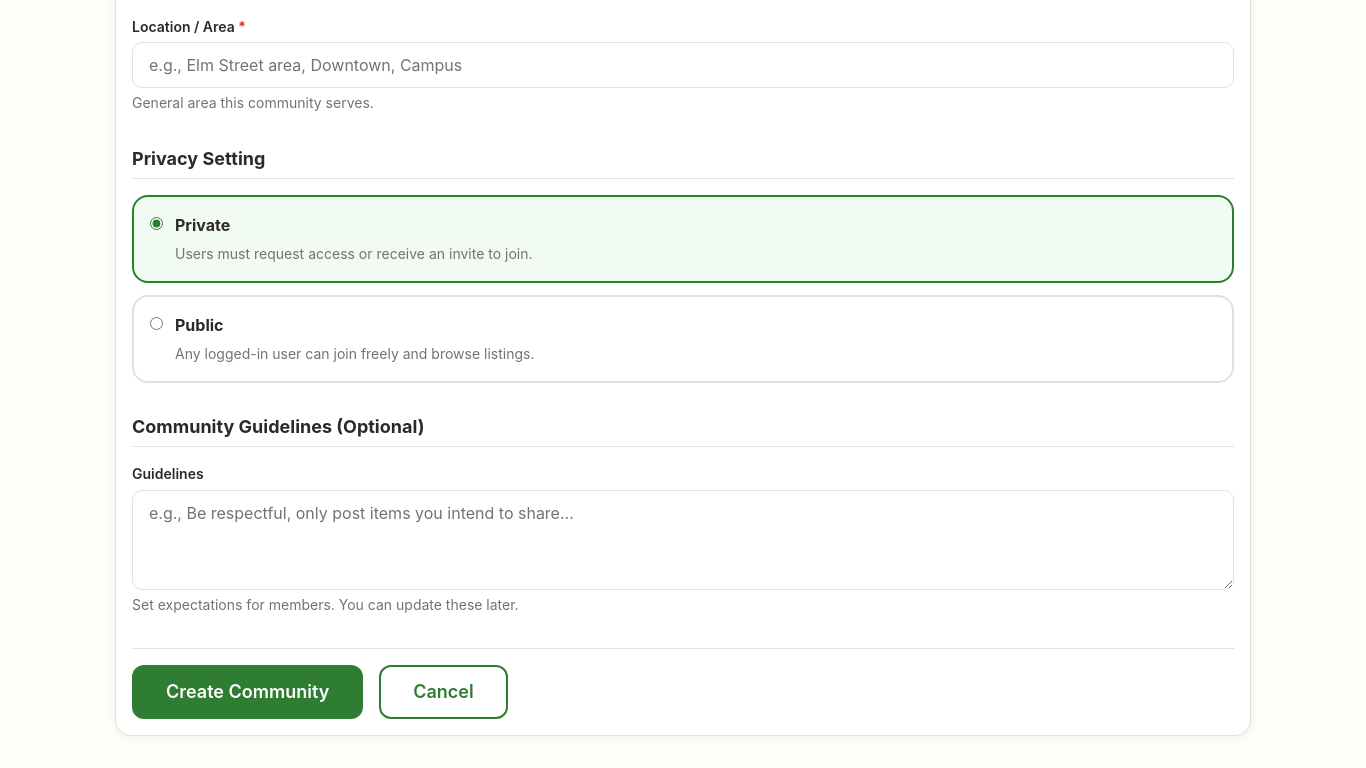
Test: CreateCommunity › must show validation errors when submitting empty form
(page scrolled)
Click the button "Create Community".
click(248, 692)  # box [132,665,363,719]
(page scrolled)
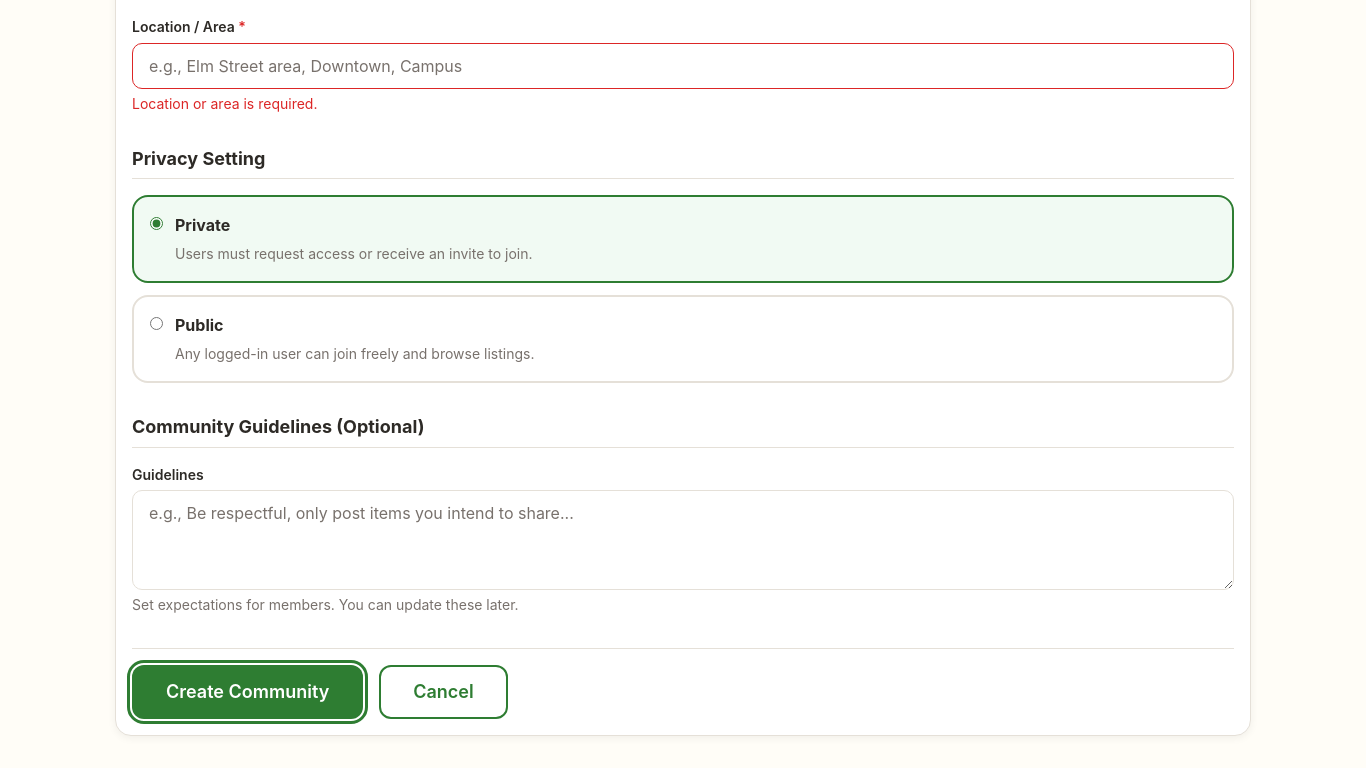
Now the text "Location or area is required." is shown, box [132,94,318,112]
